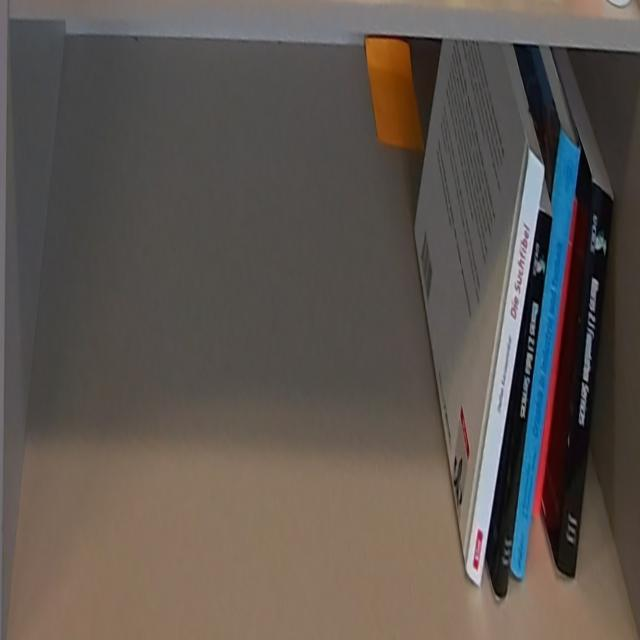Book Spine: (465, 146, 545, 591), (512, 130, 583, 585), (495, 207, 554, 600), (558, 185, 615, 581)
